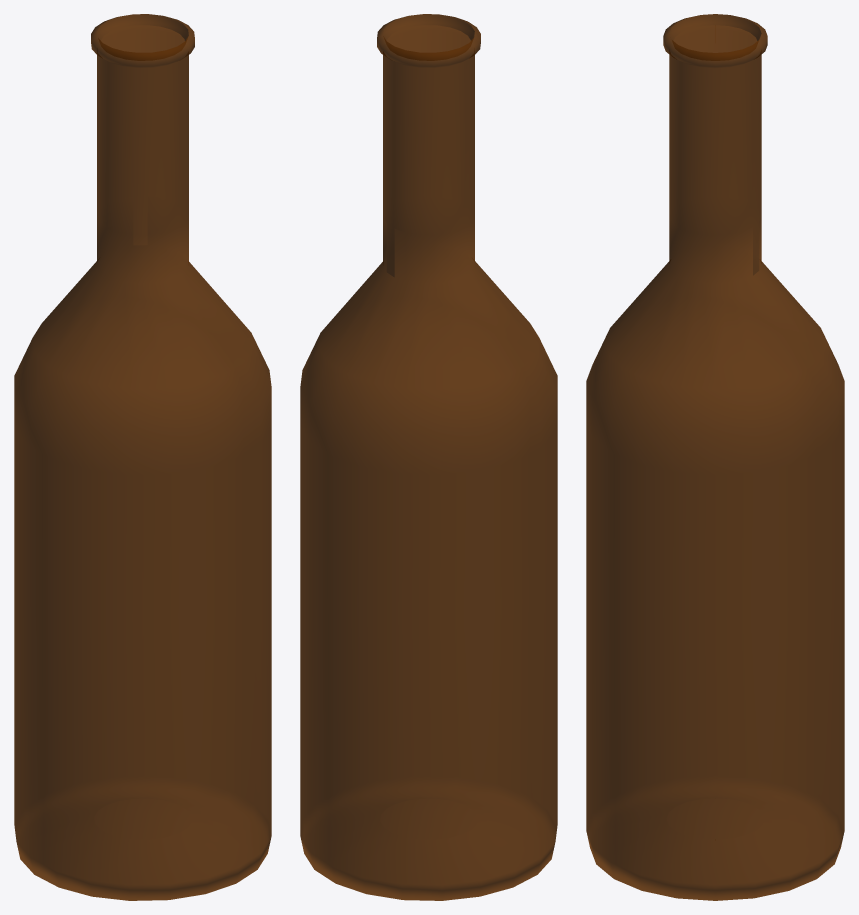
The model's file is Flasche_Braun.fbx.
3 views of the same model, side by side, from view 1: azimuth 30°, elevation 25°; view 2: azimuth 150°, elevation 25°; view 3: azimuth 270°, elevation 25° (orthographic).
Visible parts, largest first — view 1: pCylinder8; view 2: pCylinder8; view 3: pCylinder8.
Boxes of the visible parts, box(x1,y1,x2,y2) form: pCylinder8: box(14, 14, 271, 900); pCylinder8: box(300, 14, 557, 900); pCylinder8: box(586, 14, 844, 900).
Size of the model in its own units: 20.65 by 71.78 by 20.65.
